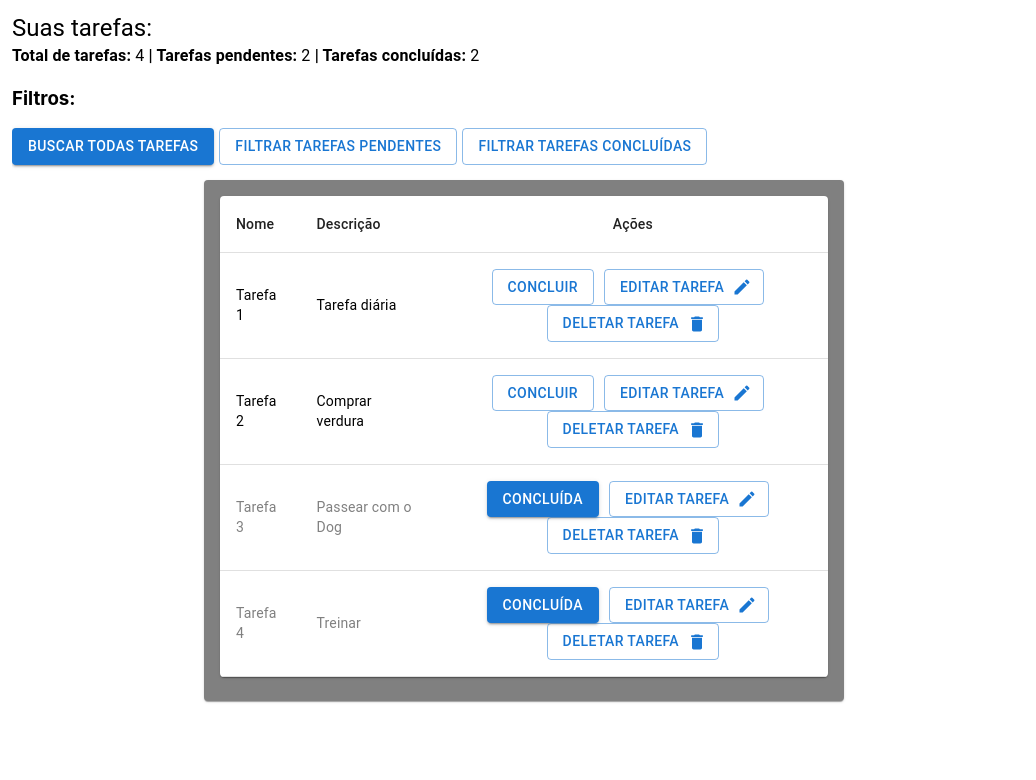
Test: Testing List component › When the tasklist isn't empty › Should render the filtered list
Expected: the text with test id "totalTasks" reads "4", x1=135 y1=46 x2=144 y2=65
Expected: the text with test id "completeTasks" reads "2", x1=470 y1=46 x2=479 y2=65
Click the button with test id "completeTasksFilter" at (585, 147), box x1=462 y1=128 x2=708 y2=165
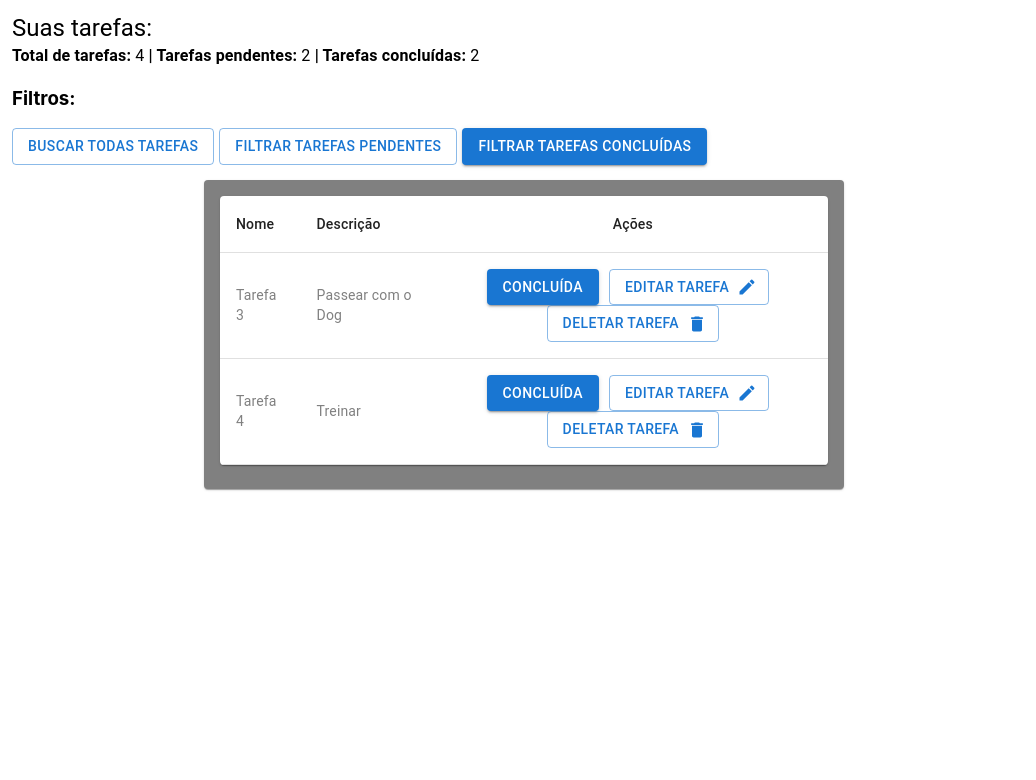
Expected: the table shows "Treinar", x1=317 y1=403 x2=361 y2=419
Expected: the table no longer shows "Comprar verdura", x1=220 y1=196 x2=828 y2=465
